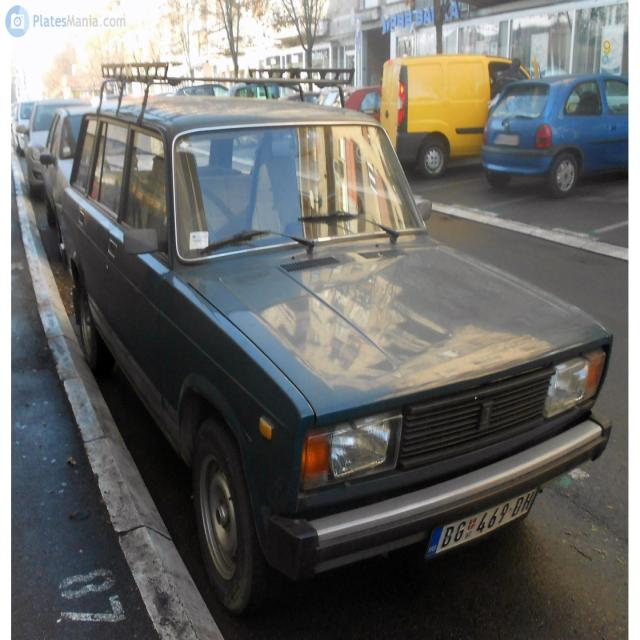License-plate: (425, 486, 540, 571), (491, 132, 525, 151)
